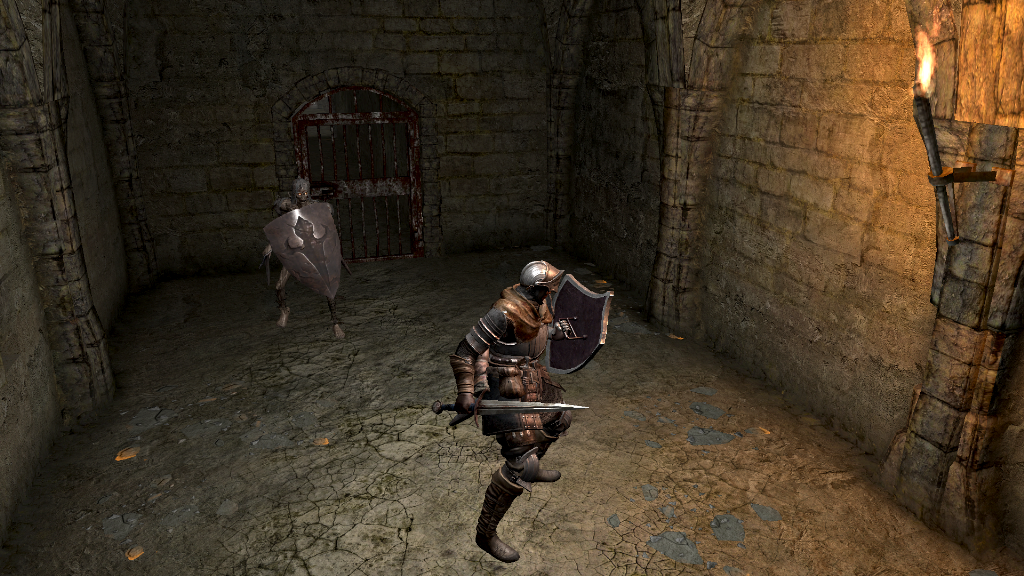player: (430, 260, 618, 562)
undeadSoldier: (270, 178, 349, 339)
